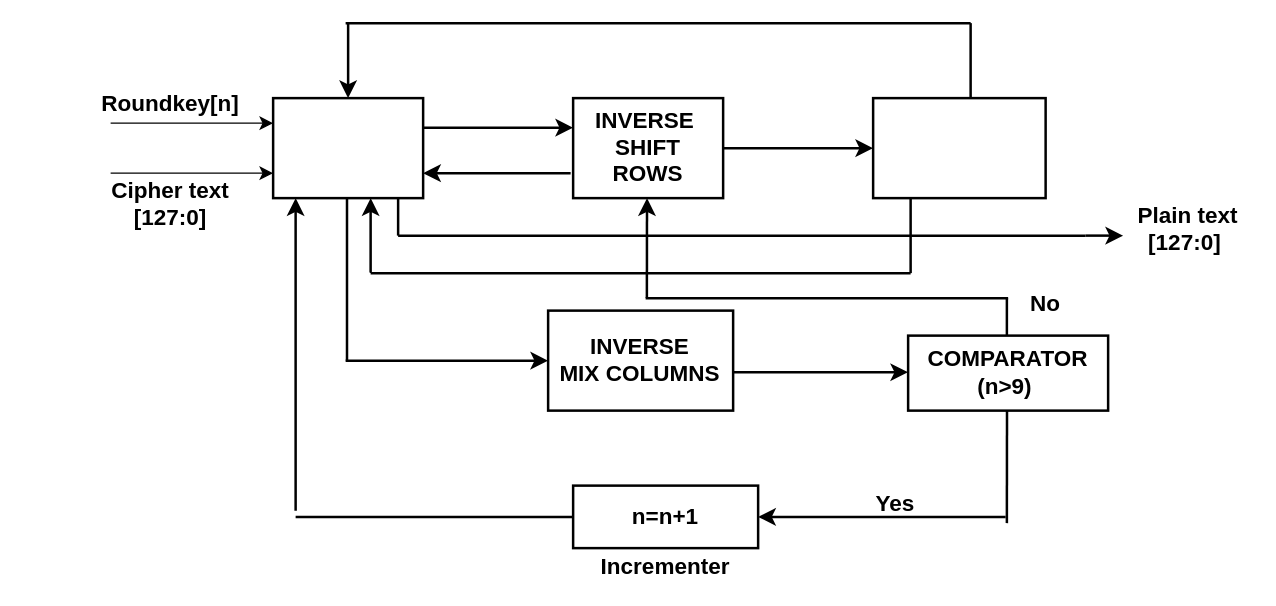
This 1276x606 diagram has some shape labels left out. The shapes that lost their labels are listed below. From the top down, each one's box as (x1, y1, x2, y2) in pixels, then its label:
(271, 96, 424, 199): ADD ROUND KEY
(871, 96, 1046, 199): INVERSE S-BOX
